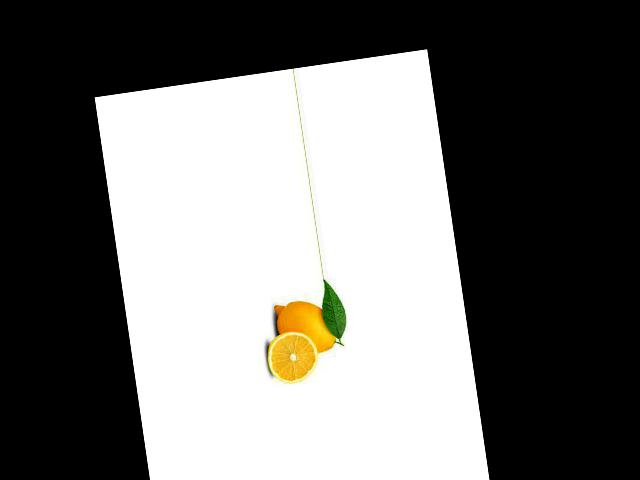lemon: (263, 287, 346, 365)
